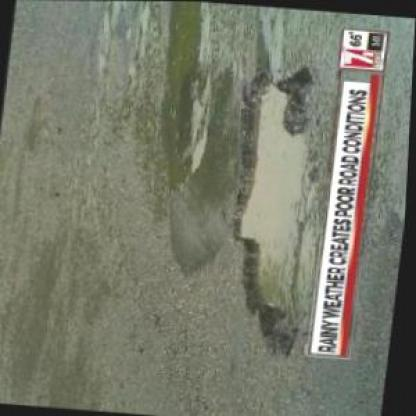pothole: (215, 61, 342, 354)
